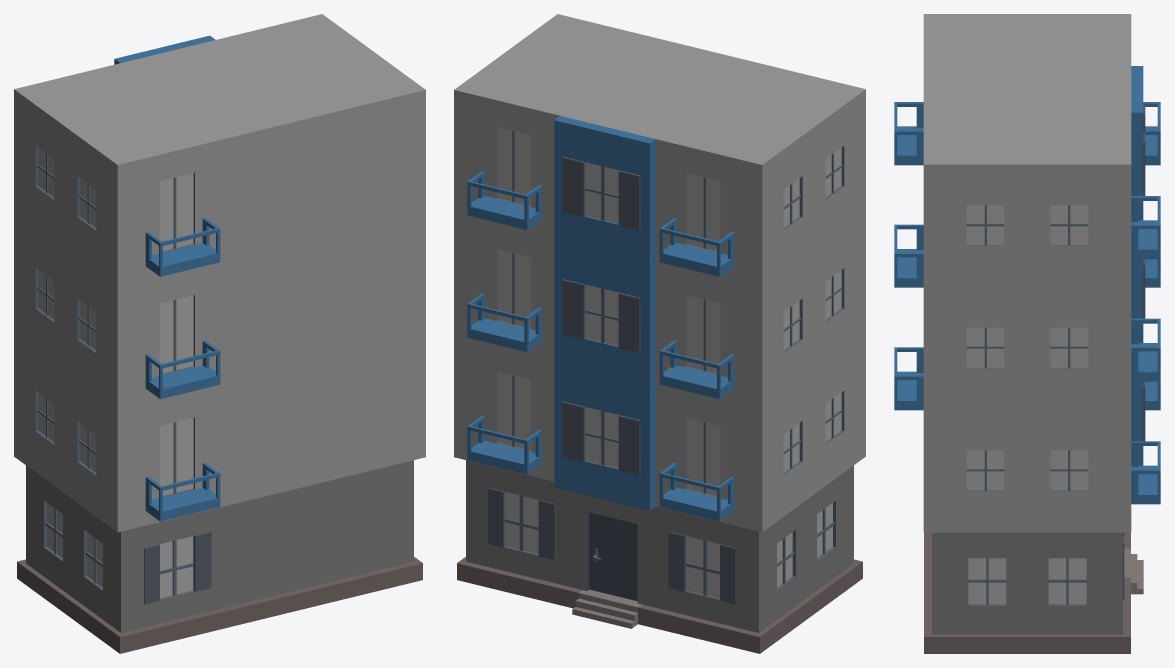
File: 3-4 House.fbx
3 views of the same model, side by side, from view 1: azimuth 30°, elevation 25°; view 2: azimuth 150°, elevation 25°; view 3: azimuth 270°, elevation 25° (orthographic).
Parts seen in each view (by area): view 1: immeuble; view 2: immeuble; view 3: immeuble.
Boxes of the visible parts, x1,y1,x2,y2 form: immeuble: (14, 14, 425, 653); immeuble: (454, 14, 865, 653); immeuble: (894, 14, 1160, 653).
Bounding box in the file's own units: 4482 × 6804 × 3346.
